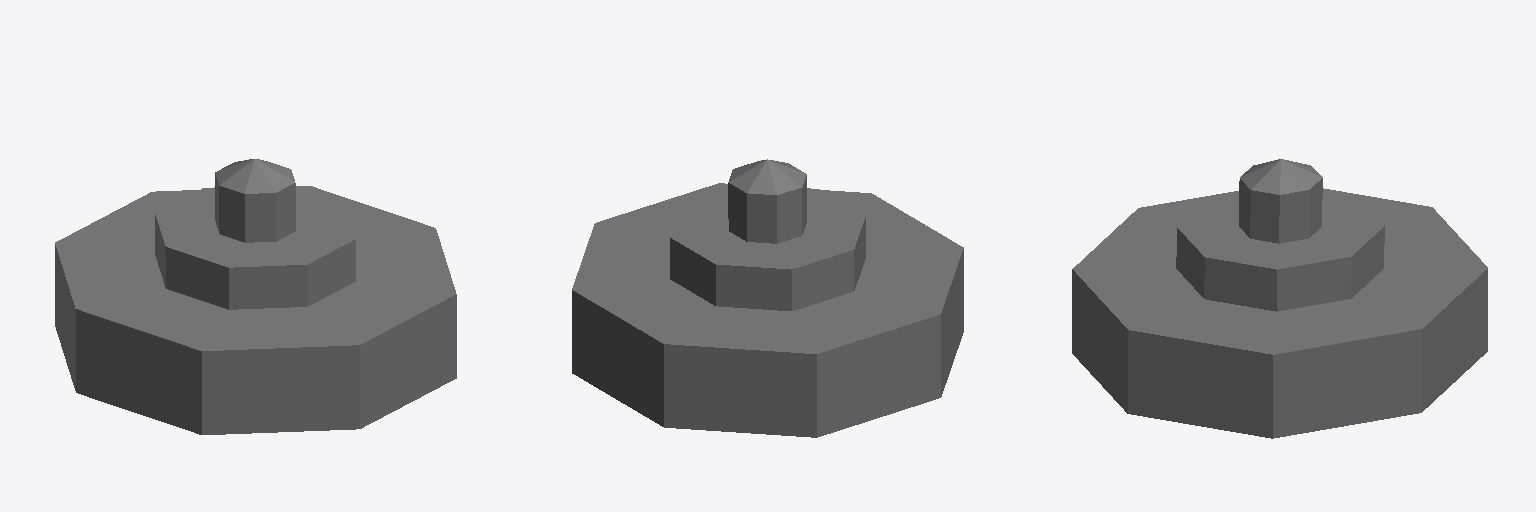
File: LandMine.obj
3 views of the same model, side by side, from view 1: azimuth 30°, elevation 25°; view 2: azimuth 150°, elevation 25°; view 3: azimuth 270°, elevation 25° (orthographic).
Visible parts, largest first — view 1: Mesh.536_DrawCall_345; view 2: Mesh.536_DrawCall_345; view 3: Mesh.536_DrawCall_345.
Part boxes in pixels (left/top/right/bottom): Mesh.536_DrawCall_345: left=55, top=159, right=456, bottom=434; Mesh.536_DrawCall_345: left=572, top=159, right=963, bottom=437; Mesh.536_DrawCall_345: left=1072, top=159, right=1487, bottom=438.
Size of the model in its own units: 0.5132 by 0.2696 by 0.5238.